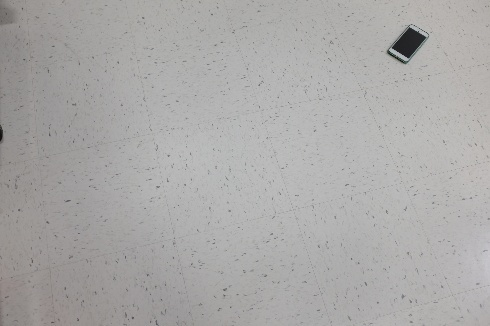phone: (382, 28, 431, 60)
